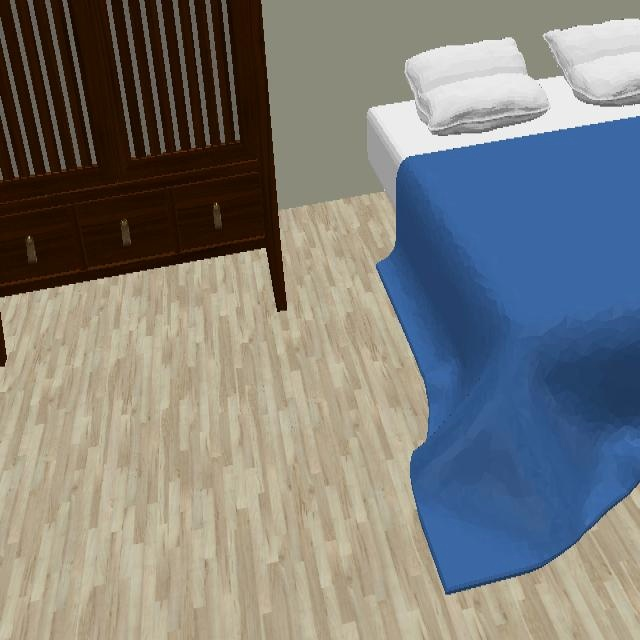bed: (366, 19, 640, 596)
pillow: (404, 37, 556, 137), (542, 19, 640, 108)
